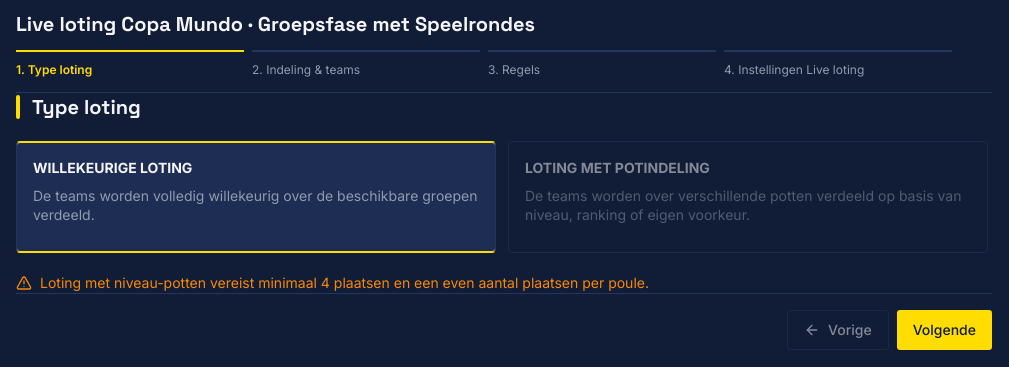
Uniform draw preparation › uses the same header and separate team step for rounds
This screenshot has width=1009, height=367.
Expected: the button "Willekeurig" is shown, [16,140,496,252]
Expected: the number of list items is 4, [16,50,244,80]; [252,50,480,80]; [488,50,716,80]; [724,50,952,80]
Click the button "Volgende": [944, 330] box [897,310,992,350]
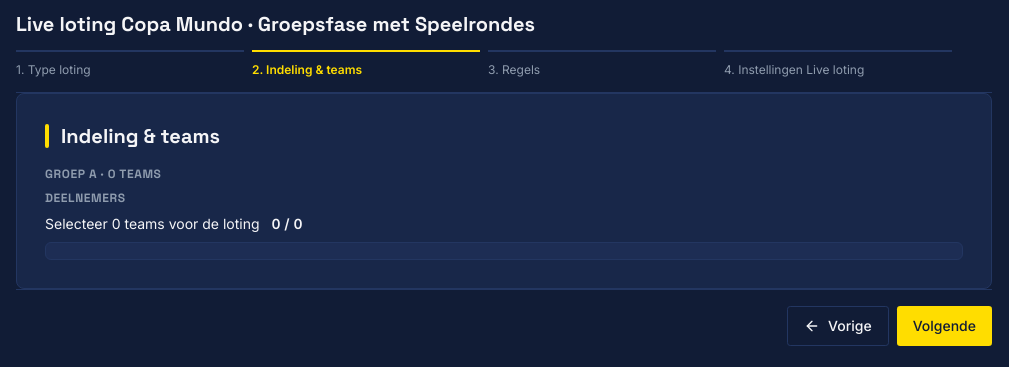
Result: the heading "Indeling & teams" is shown at [61,122,220,148]
